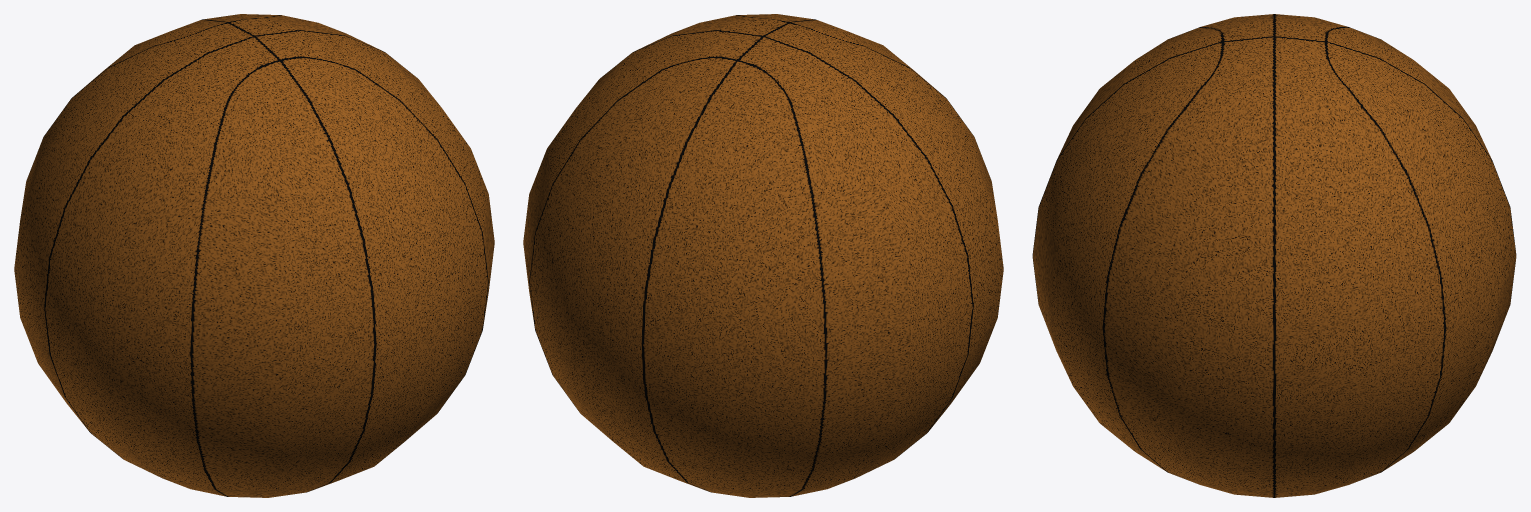
The model's file is Basketball.fbx.
3 views of the same model, side by side, from view 1: azimuth 30°, elevation 25°; view 2: azimuth 150°, elevation 25°; view 3: azimuth 270°, elevation 25° (orthographic).
Visible parts, largest first — view 1: Sphere; view 2: Sphere; view 3: Sphere.
Part boxes in pixels (bbox=[...]): Sphere: bbox=[14, 14, 494, 497]; Sphere: bbox=[523, 14, 1003, 497]; Sphere: bbox=[1032, 14, 1516, 497].
Bounding box in the file's own units: 197 × 197 × 197.
